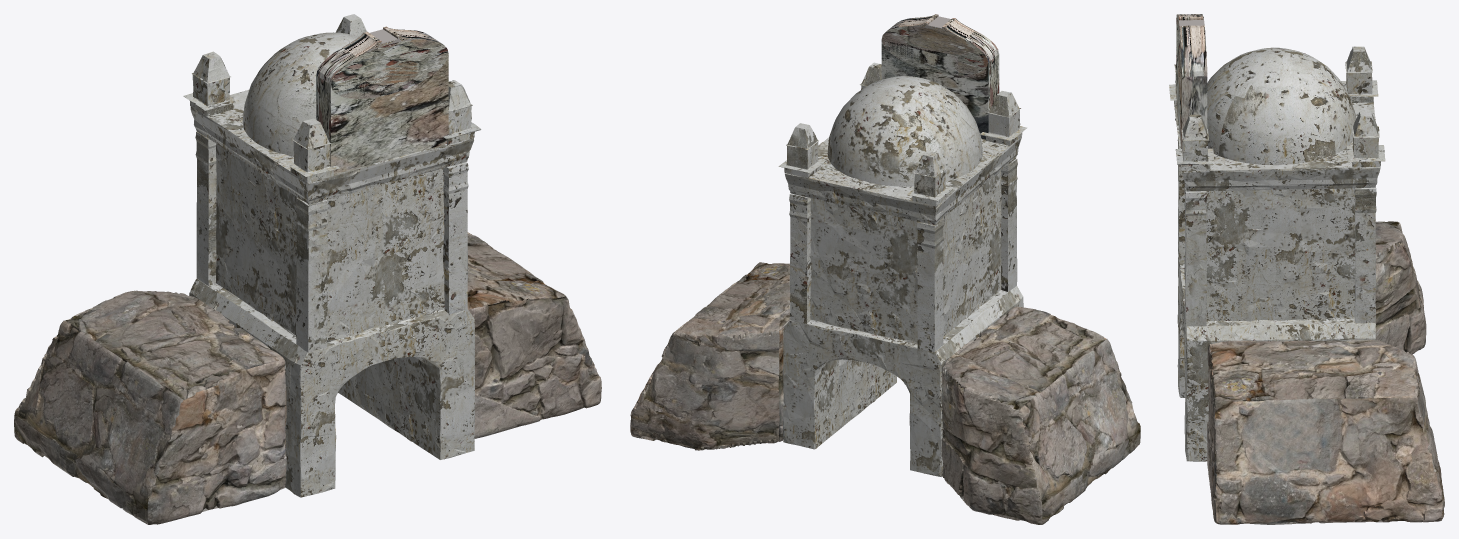
The picture shows the model from 3 angles, left to right: view 1: azimuth 30°, elevation 25°; view 2: azimuth 150°, elevation 25°; view 3: azimuth 270°, elevation 25°; orthographic projection. The views are drawn at different scales.
Parts seen in each view (by area): view 1: Rompeolas.001; view 2: Rompeolas.001; view 3: Rompeolas.001.
Part boxes in pixels (x1,y1,x2,y2): Rompeolas.001: (14, 14, 601, 524); Rompeolas.001: (630, 14, 1140, 524); Rompeolas.001: (1169, 14, 1444, 524).
Size of the model in its own units: 1.32 by 1.15 by 0.7191.
Materials: 3 (3 with a texture image).
